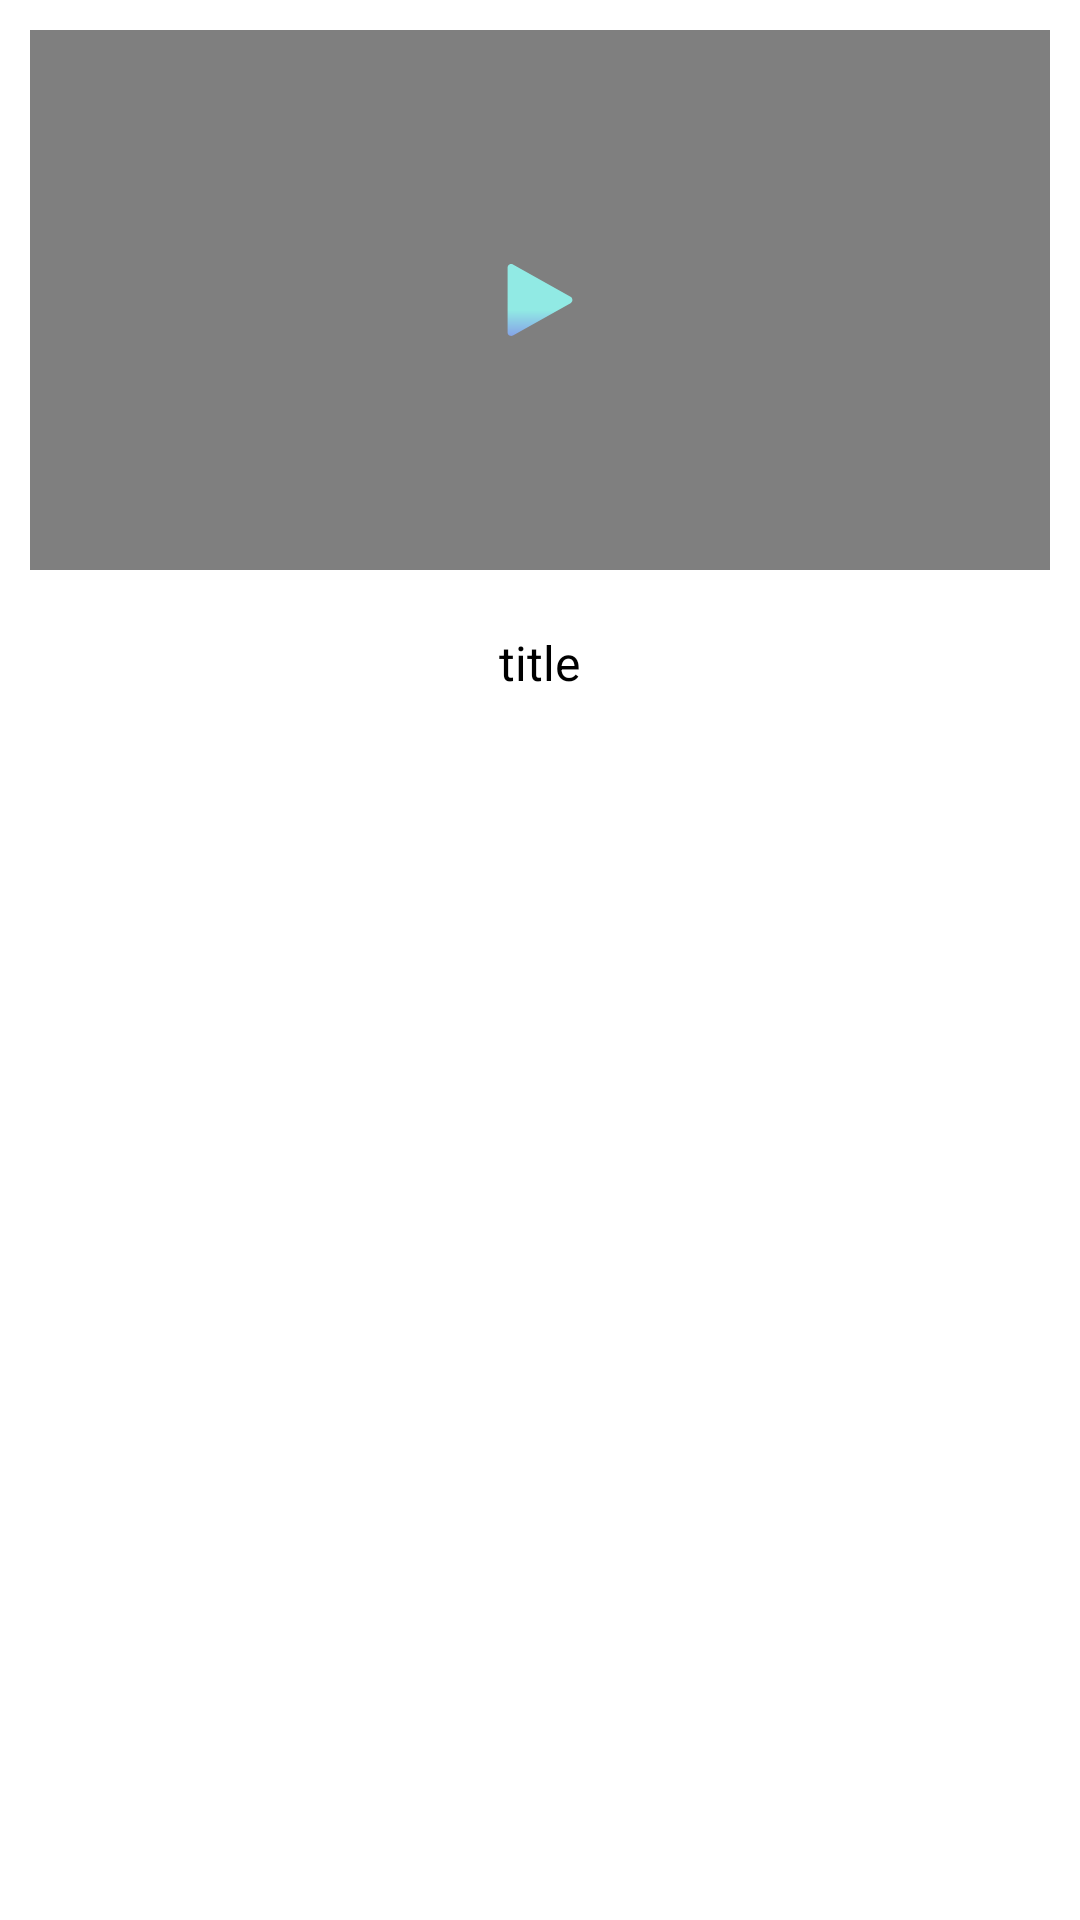

Locate icon controls on the screen. Image size 1080w x 1920h, boxes as (x1, y1, x2, y2).
Pause and Play Button: (507, 264, 573, 336)
